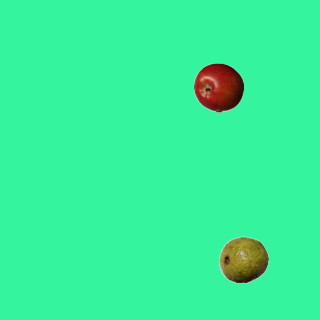Apple Braeburn: (193, 62, 243, 112)
Guava: (218, 234, 268, 284)
